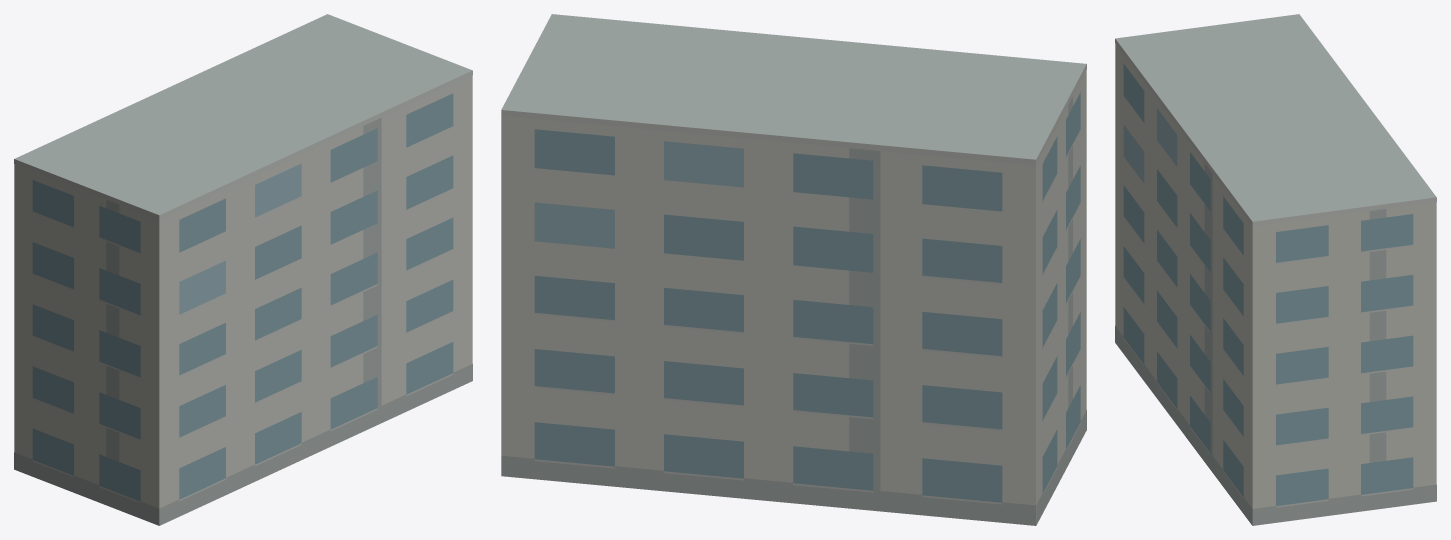
File: survey-upis-32622926.glb
The picture shows the model from 3 angles, left to right: view 1: azimuth 30°, elevation 25°; view 2: azimuth 150°, elevation 25°; view 3: azimuth 270°, elevation 25°; orthographic projection. The views are drawn at different scales.
Visible parts, largest first — view 1: survey-upis-32622926.tmp; view 2: survey-upis-32622926.tmp; view 3: survey-upis-32622926.tmp.
Part boxes in pixels (x1=…): survey-upis-32622926.tmp: x1=14, y1=14, x2=472, y2=525; survey-upis-32622926.tmp: x1=501, y1=14, x2=1086, y2=525; survey-upis-32622926.tmp: x1=1115, y1=14, x2=1436, y2=525.
Size of the model in its own units: 22.34 by 15.25 by 14.62.
